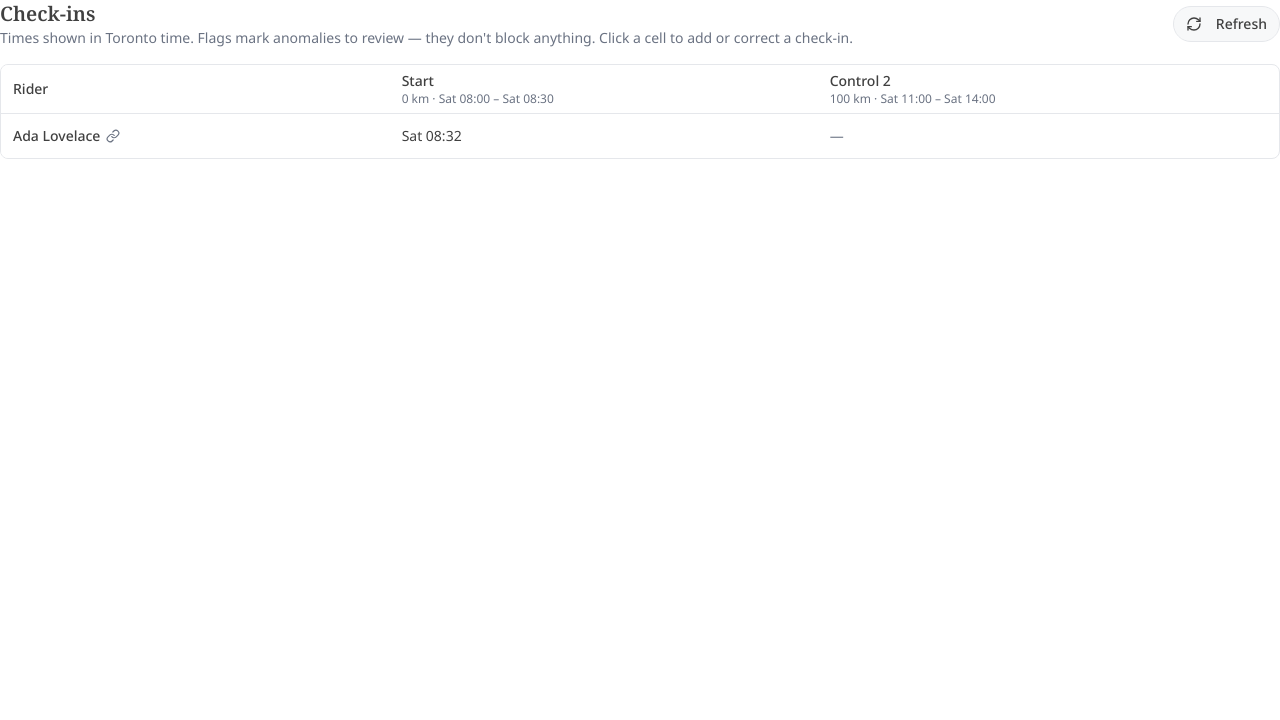
EventCheckinsGrid correction dialog › omits the delete button when adding a new check-in
The image size is (1280, 720).
Note: ctrl-2 has no check-in for this rider.
Click the text "—": (837, 135) [830,126,844,144]
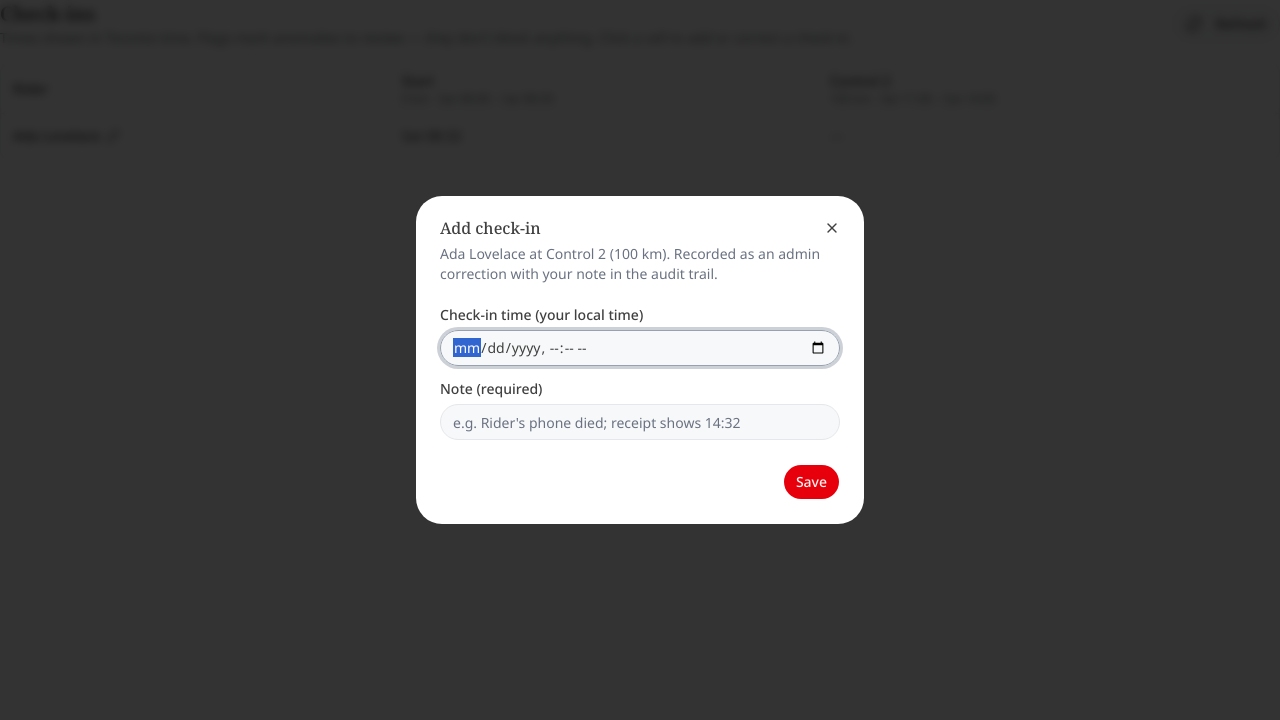
Now the heading "Add check-in" is shown, box [440,217,541,239]
